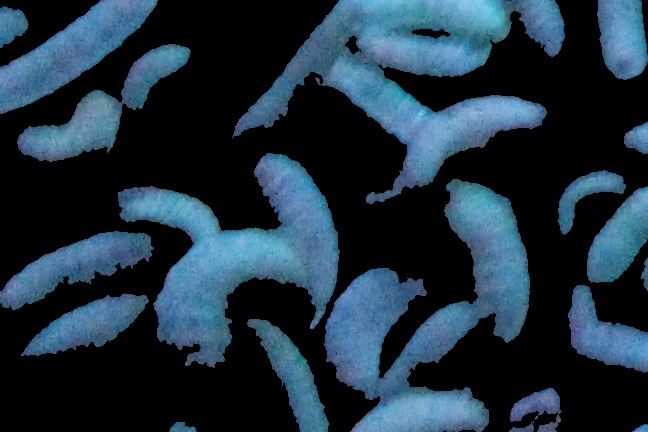larvae: (156, 228, 292, 366), (10, 4, 154, 112), (443, 179, 534, 343), (252, 151, 340, 310), (25, 268, 158, 371), (4, 225, 165, 310), (240, 10, 343, 137), (404, 92, 549, 166), (327, 256, 403, 388), (15, 90, 135, 166), (387, 294, 481, 389), (249, 321, 327, 432), (331, 54, 431, 139), (118, 36, 202, 133), (583, 172, 648, 280), (341, 1, 505, 43), (357, 27, 494, 77), (352, 386, 485, 432), (119, 178, 205, 231), (555, 168, 627, 231), (579, 316, 648, 379), (597, 2, 648, 83), (513, 1, 564, 54), (563, 282, 601, 347)
